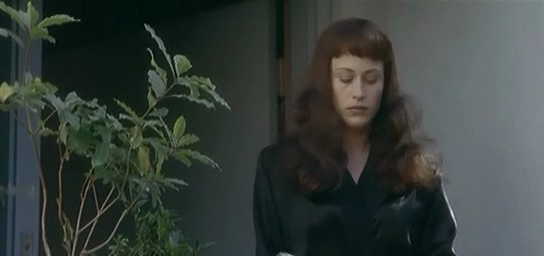face: (332, 57, 384, 128)
mcu: (1, 1, 544, 256)
person: (253, 17, 457, 256)
